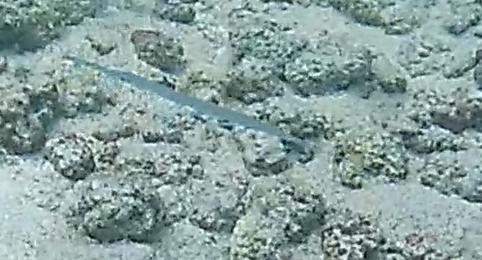Fistularia commersonii: (67, 48, 350, 177)
